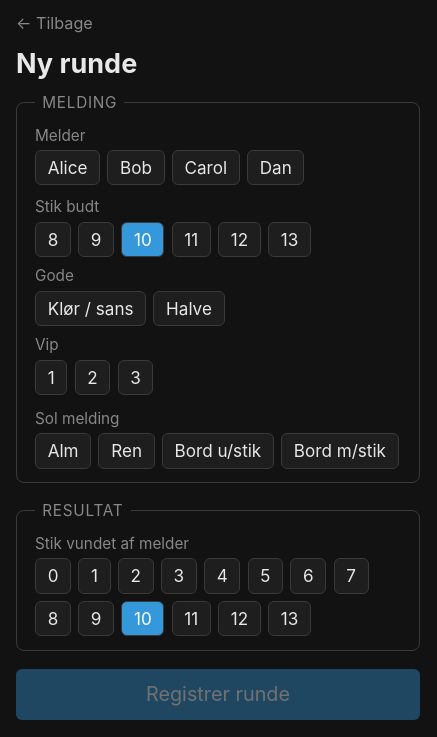
Scenario: Round screen - Tjell trick bid › Halve disables VIP chips
The width and height of the screenshot is (437, 737).
Click the button "Halve": (189, 308) top-left (153, 290), bottom-right (224, 326)
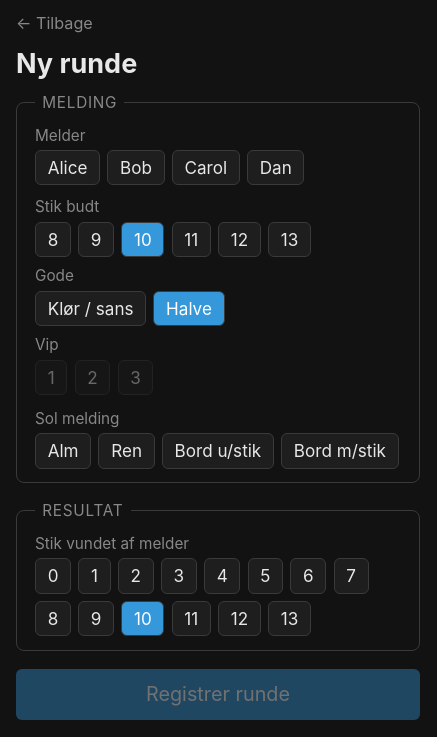
Now the button "1" below "Vip" is disabled, box top-left (35, 360), bottom-right (67, 395)
Now the button "2" below "Vip" is disabled, box top-left (74, 360), bottom-right (110, 395)
Now the button "3" below "Vip" is disabled, box top-left (118, 360), bottom-right (153, 395)
